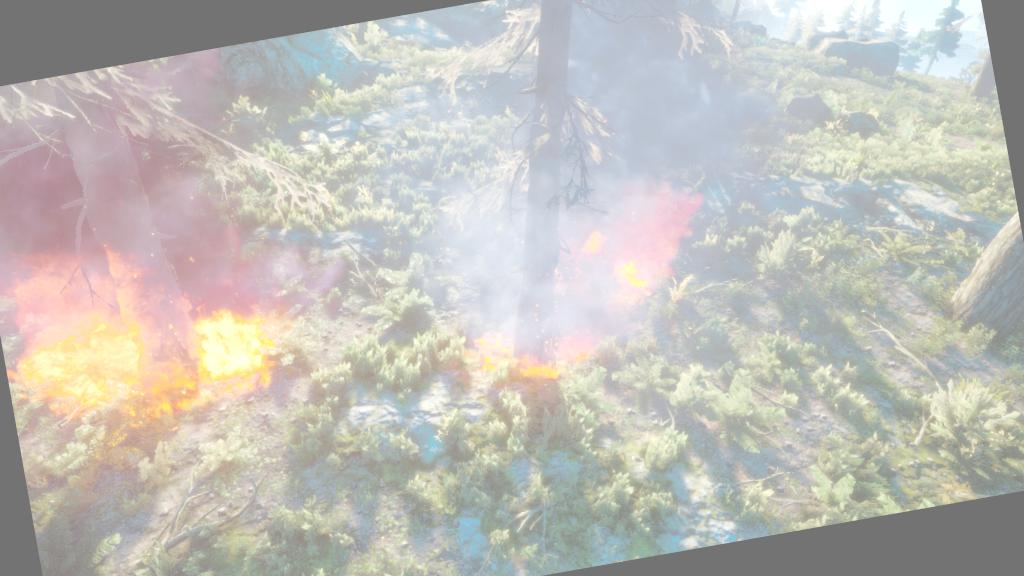Fire: (0, 218, 318, 447)
smoke: (358, 81, 726, 370), (0, 44, 280, 348)
